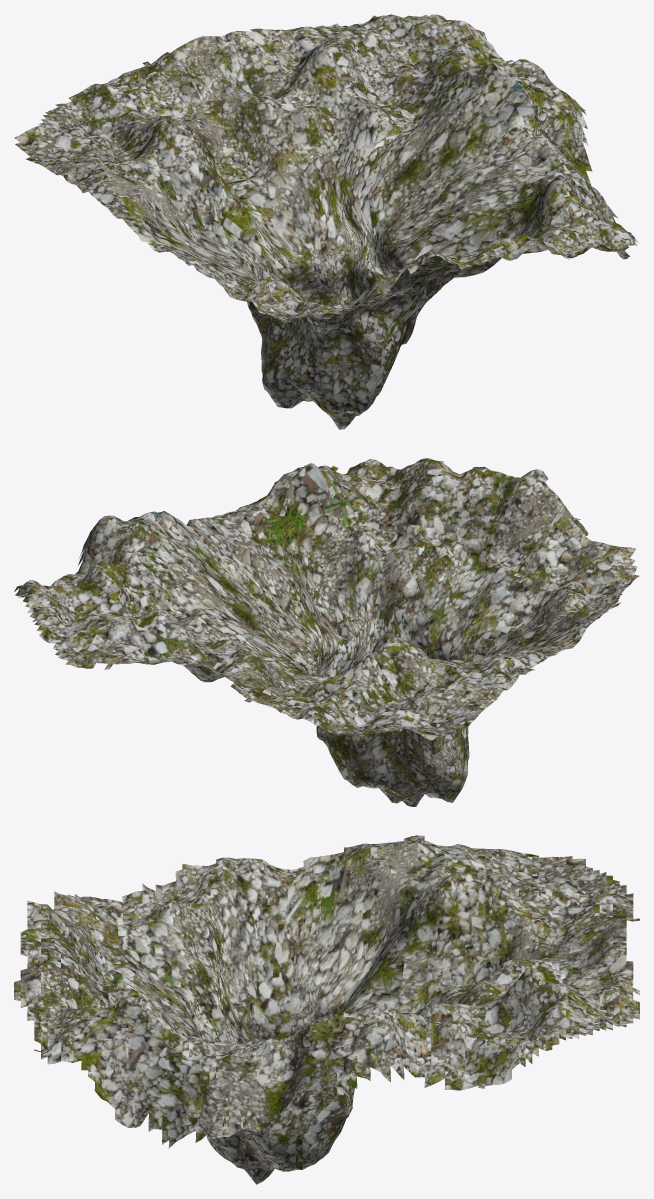
The model's file is mountains.obj.
3 renders of one model, top to bottom at view 1: azimuth 30°, elevation 25°; view 2: azimuth 150°, elevation 25°; view 3: azimuth 270°, elevation 25°, orthographic. The views are drawn at different scales.
Visible parts, largest first — view 1: Mountains; view 2: Mountains; view 3: Mountains.
Part boxes in pixels (<box>): Mountains: <box>14,14,638,429</box>; Mountains: <box>14,458,639,806</box>; Mountains: <box>14,835,639,1184</box>.
Bounding box in the file's own units: 765 × 423 × 827.
Materials: 1 (1 with a texture image).
